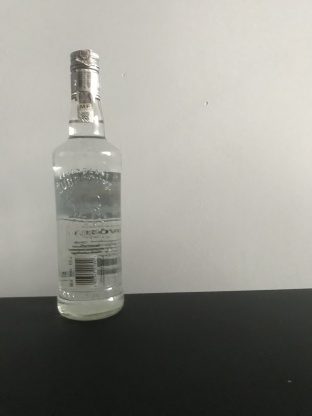nakretka: (68, 47, 102, 102)
